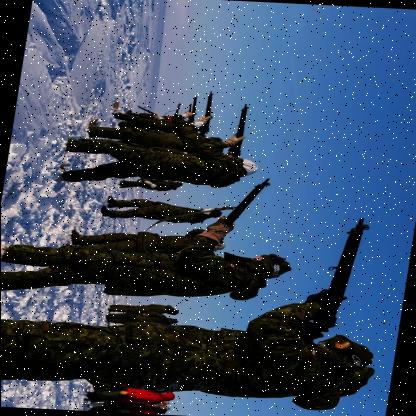rifle: (290, 207, 378, 345), (218, 172, 272, 233), (224, 100, 254, 158), (197, 84, 221, 136)
